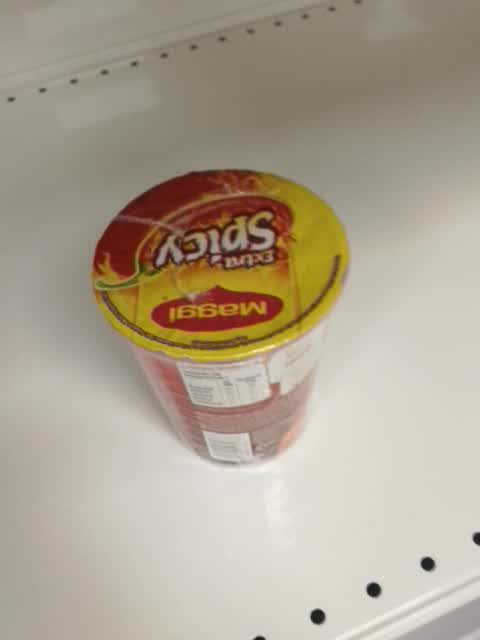maggi: (92, 169, 350, 469)
